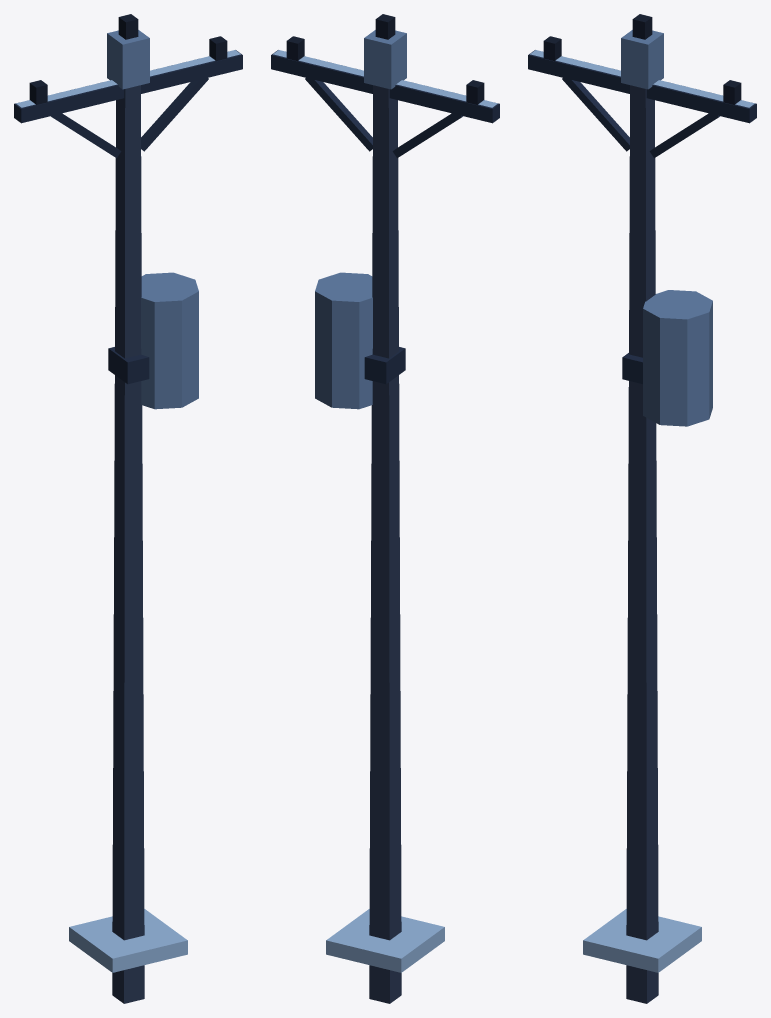
Rendered from power_pole.glb.
3 renders of one model, left to right at view 1: azimuth 30°, elevation 25°; view 2: azimuth 150°, elevation 25°; view 3: azimuth 330°, elevation 25°, orthographic.
Visible parts, largest first — view 1: Power_Pole; view 2: Power_Pole; view 3: Power_Pole.
Part boxes in pixels (bbox=[...]): Power_Pole: bbox=[14, 14, 242, 1003]; Power_Pole: bbox=[271, 14, 499, 1003]; Power_Pole: bbox=[528, 14, 756, 1003].
Size of the model in its own units: 2.12 by 8.95 by 0.72.
